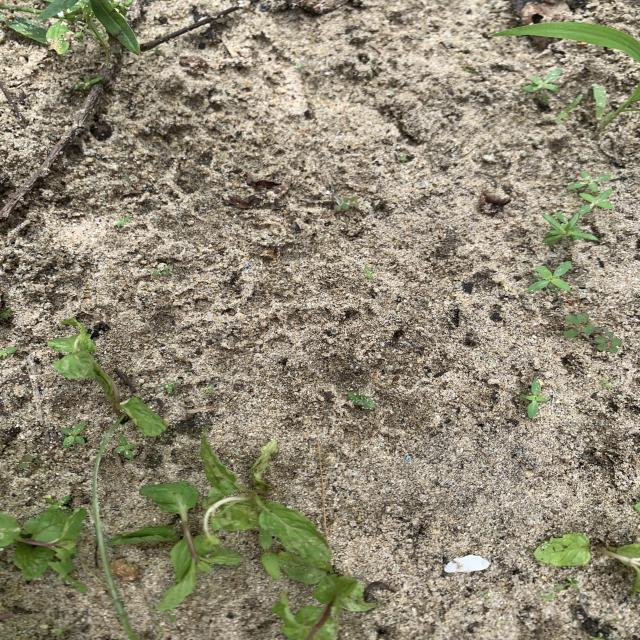crop: (201, 434, 332, 584), (111, 481, 242, 611), (47, 318, 168, 437), (0, 496, 87, 592), (272, 575, 392, 640)
weed: (92, 420, 139, 640), (489, 22, 640, 63), (592, 83, 640, 139), (563, 313, 622, 353), (542, 212, 598, 245), (526, 261, 571, 293), (521, 68, 562, 98), (521, 379, 550, 419), (574, 189, 614, 217), (113, 435, 147, 467), (568, 172, 611, 195), (60, 422, 86, 448), (18, 454, 47, 470)
